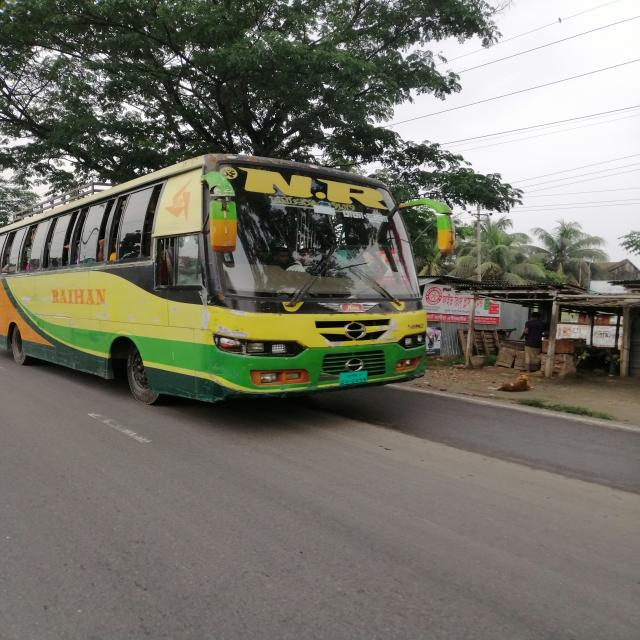Bus: (2, 155, 464, 414)
